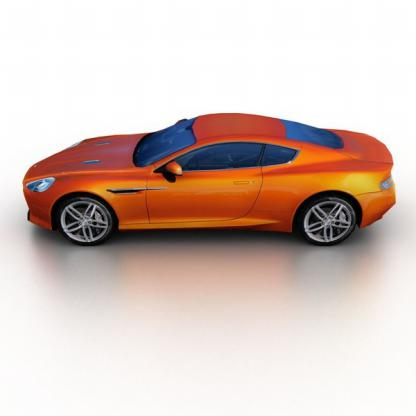Vehicle: (15, 111, 402, 267)
